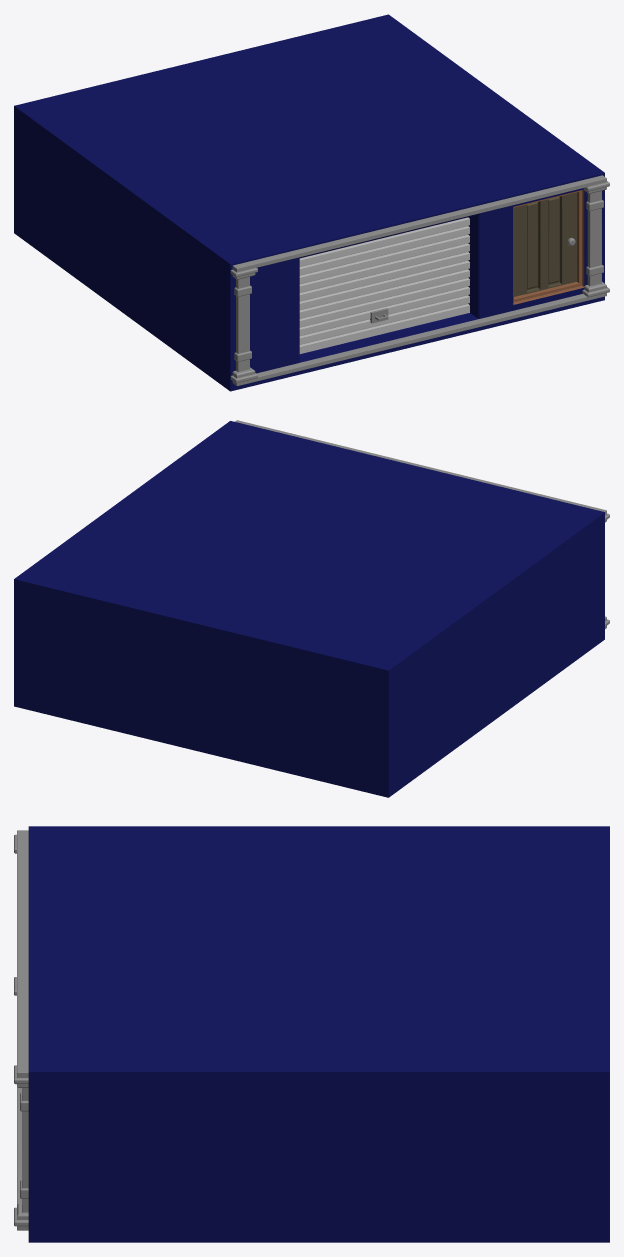
File: Building2 low.fbx
3 renders of one model, top to bottom at view 1: azimuth 30°, elevation 25°; view 2: azimuth 150°, elevation 25°; view 3: azimuth 270°, elevation 25°, orthographic. The views are drawn at different scales.
Parts seen in each view (by area): view 1: MIDDLE BUILDING 1 LOW; view 2: MIDDLE BUILDING 1 LOW; view 3: MIDDLE BUILDING 1 LOW.
Boxes of the visible parts, x1,y1,x2,y2 form: MIDDLE BUILDING 1 LOW: (14,14,609,391); MIDDLE BUILDING 1 LOW: (14,420,609,797); MIDDLE BUILDING 1 LOW: (14,826,609,1242).
Bounding box in the file's own units: 1000 × 325 × 1025.
